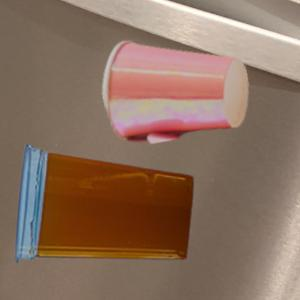cup: (16, 146, 196, 262), (102, 40, 251, 144)
